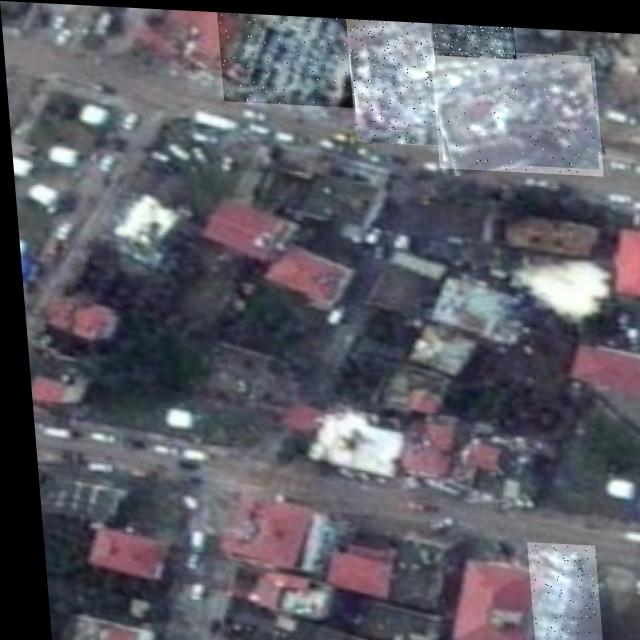Rubble: (430, 42, 601, 169), (217, 9, 352, 103), (346, 14, 439, 141), (518, 536, 594, 640), (432, 18, 516, 53)
